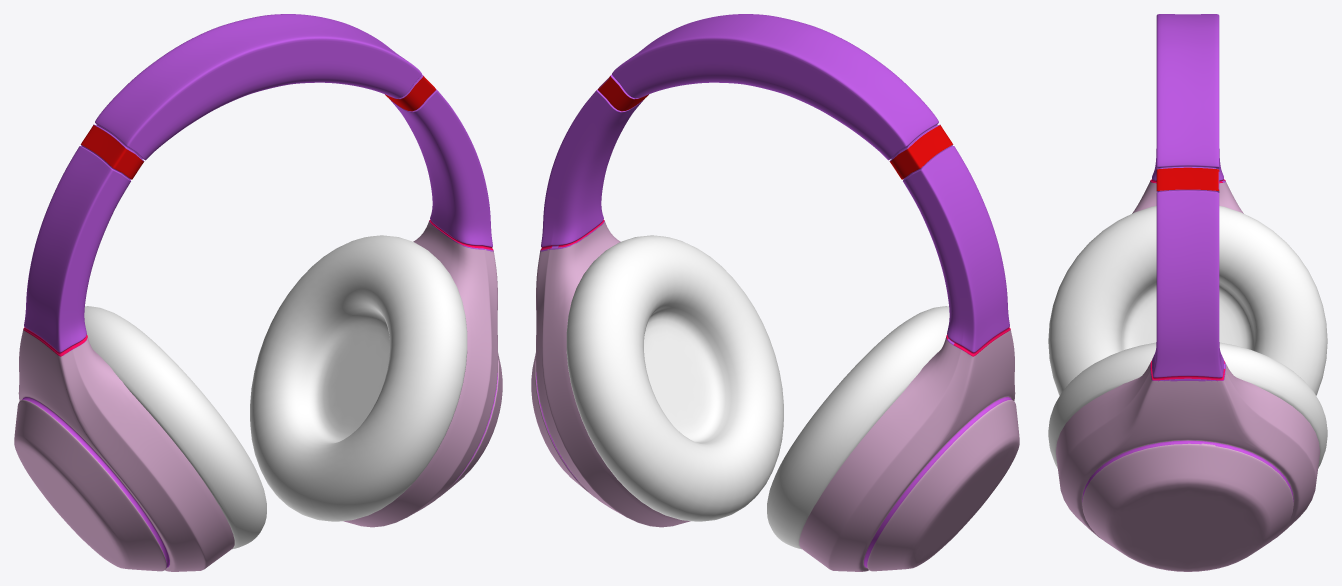
Rendered from headphone_funky-OfU7MbHp.glb.
The picture shows the model from 3 angles, left to right: view 1: azimuth 30°, elevation 25°; view 2: azimuth 150°, elevation 25°; view 3: azimuth 270°, elevation 25°; orthographic projection. The views are drawn at different scales.
Parts seen in each view (by area): view 1: headphone, Circle; view 2: headphone, Circle; view 3: headphone, Circle.
Boxes of the visible parts, left/top/right/bottom form: headphone: left=14, top=14, right=502, bottom=571; Circle: left=84, top=235, right=467, bottom=549; headphone: left=531, top=14, right=1019, bottom=571; Circle: left=566, top=235, right=949, bottom=549; headphone: left=1056, top=14, right=1319, bottom=571; Circle: left=1048, top=206, right=1327, bottom=467.
Size of the model in its own units: 3.7 by 3.97 by 2.09.
